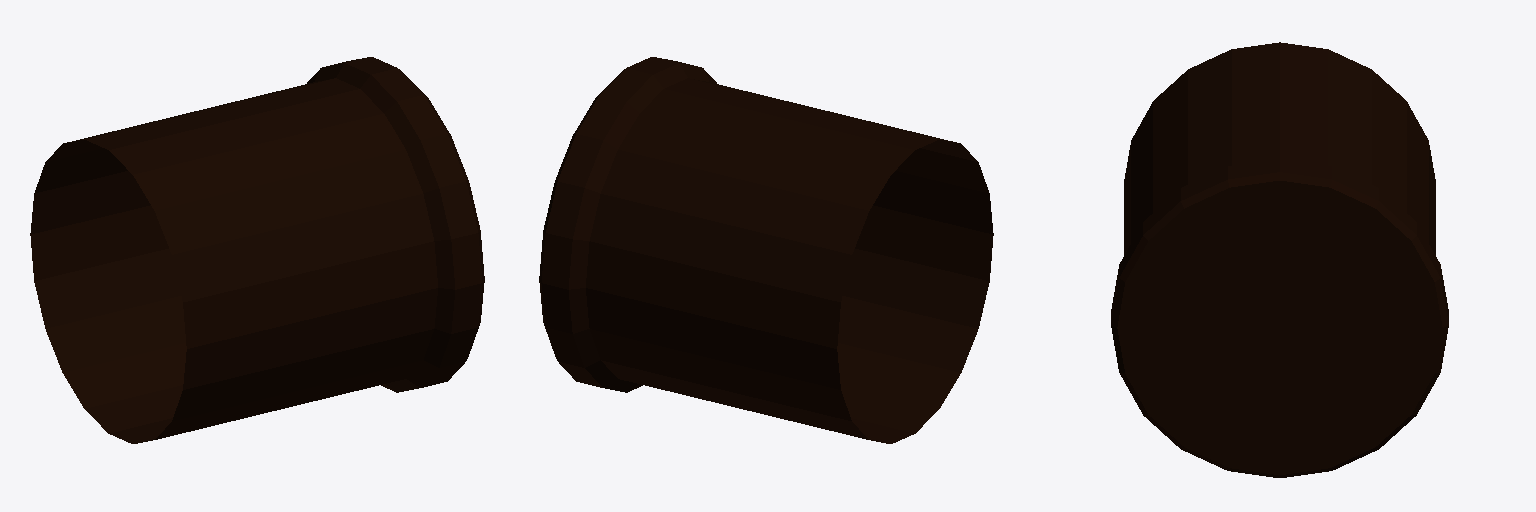
The model's file is PipeA.obj.
3 renders of one model, left to right at view 1: azimuth 30°, elevation 25°; view 2: azimuth 150°, elevation 25°; view 3: azimuth 270°, elevation 25°, orthographic.
Visible parts, largest first — view 1: PipeA; view 2: PipeA; view 3: PipeA.
Part boxes in pixels (x1,y1,x2,y2): PipeA: (30,57,484,443); PipeA: (539,57,993,443); PipeA: (1111,42,1448,477).
Size of the model in its own units: 0.0544 by 0.054 by 0.054.